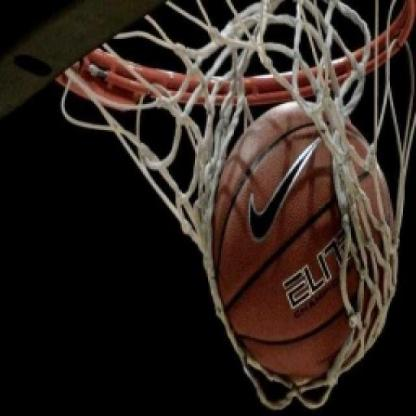basketball: (212, 95, 392, 377)
